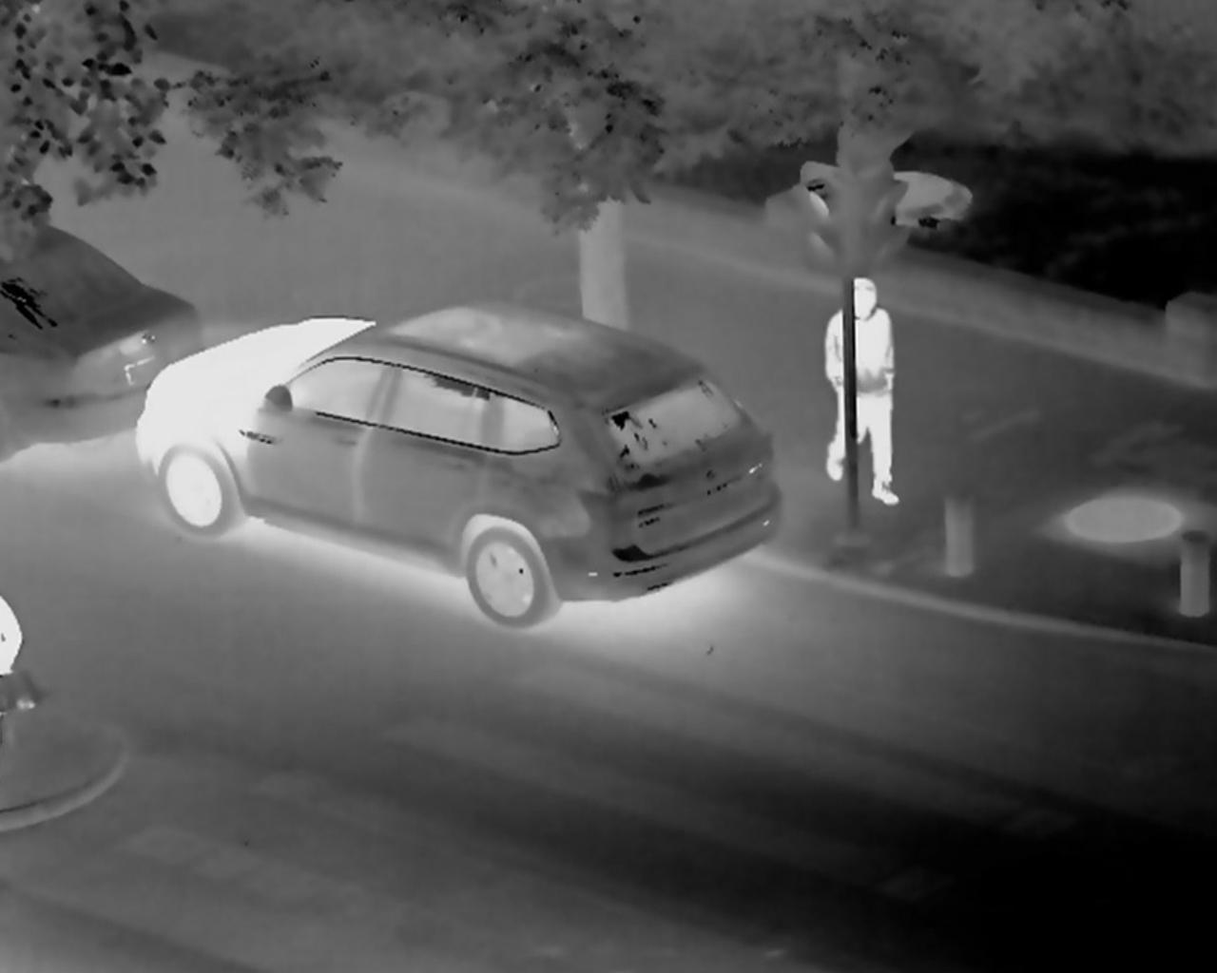person: (839, 277, 918, 523)
